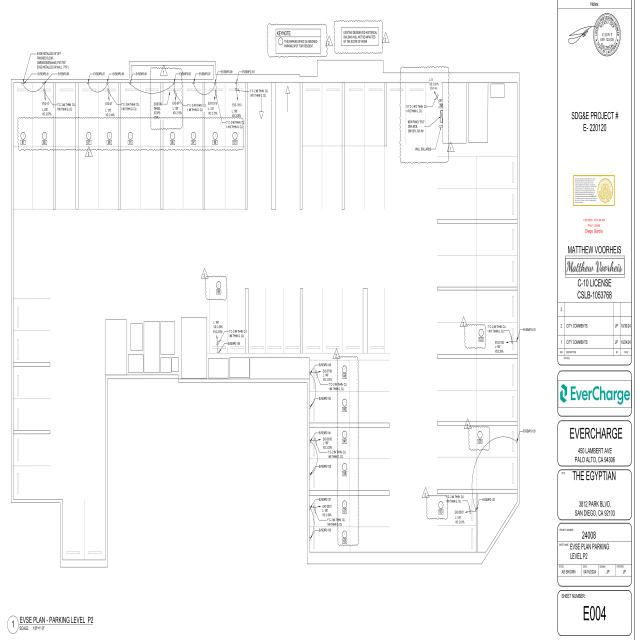evse: (473, 504, 478, 519), (190, 81, 200, 88), (126, 80, 136, 86), (515, 335, 519, 350), (40, 80, 49, 86), (211, 80, 220, 86), (20, 81, 27, 88), (84, 81, 92, 87), (171, 81, 179, 87), (516, 435, 519, 451), (232, 81, 241, 86), (308, 535, 312, 546), (308, 502, 311, 516), (308, 403, 312, 413), (308, 471, 311, 483), (308, 436, 311, 448), (103, 82, 111, 86), (215, 351, 222, 355), (308, 370, 311, 378)
gfi: (439, 103, 444, 106)
panel: (438, 109, 444, 124)
